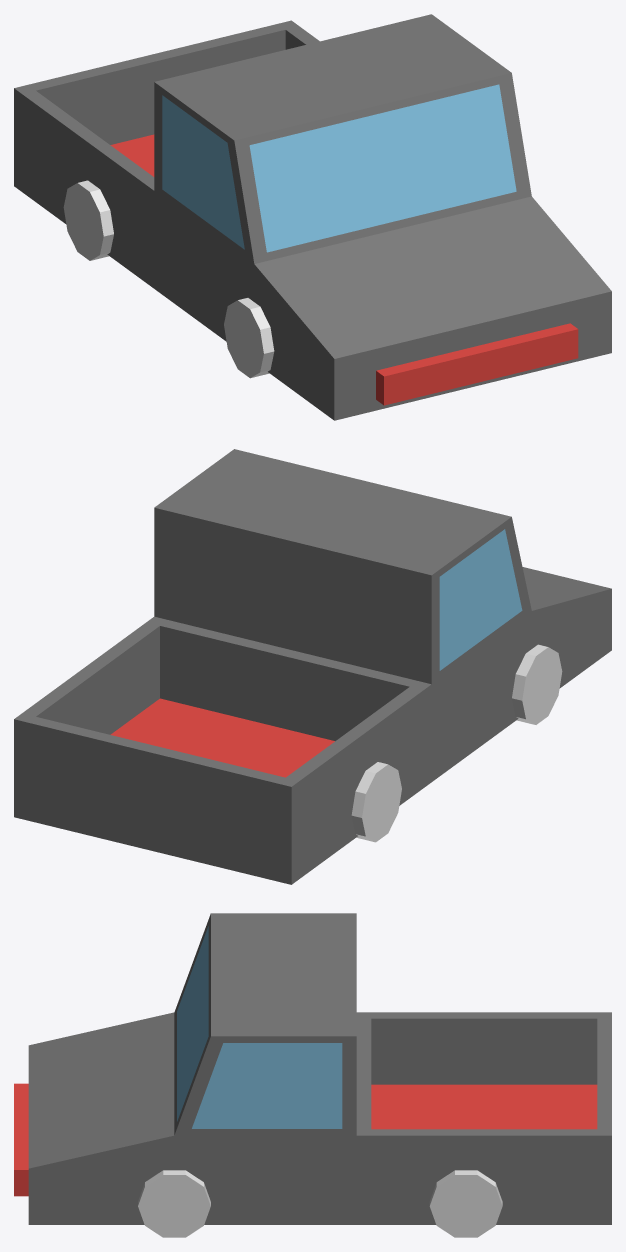
The model's file is 3D_Printer_TD_3_Car.fbx.
3 views of the same model, one above another, from view 1: azimuth 30°, elevation 25°; view 2: azimuth 150°, elevation 25°; view 3: azimuth 270°, elevation 25° (orthographic). The views are drawn at different scales.
Visible parts, largest first — view 1: Car_3; view 2: Car_3; view 3: Car_3.
Boxes of the visible parts, x1,y1,x2,y2 form: Car_3: [14, 14, 611, 420]; Car_3: [14, 449, 611, 884]; Car_3: [14, 913, 611, 1237].
Bounding box in the file's own units: 430 × 298 × 820.
